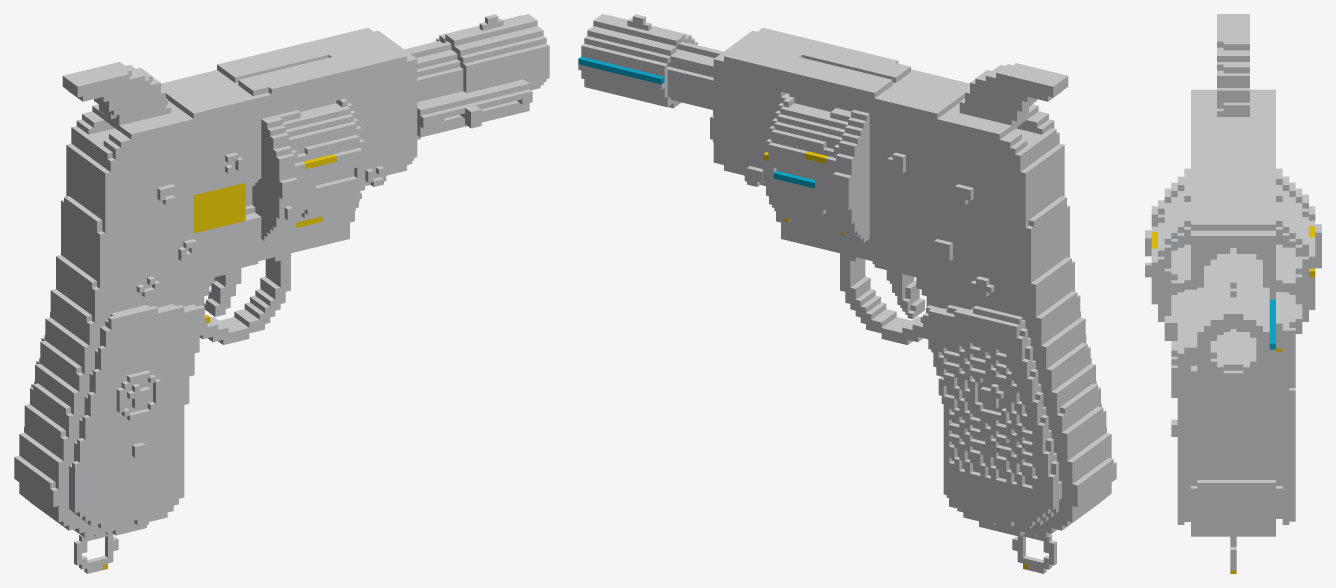
The model's file is diff_volume.glb.
The picture shows the model from 3 angles, left to right: view 1: azimuth 30°, elevation 25°; view 2: azimuth 150°, elevation 25°; view 3: azimuth 270°, elevation 25°; orthographic projection. The views are drawn at different scales.
Parts seen in each view (by area): view 1: =>[0:1:1:33], =>[0:1:1:299], =>[0:1:1:744], =>[0:1:1:298], =>[0:1:1:53], =>[0:1:1:36], =>[0:1:1:1436], =>[0:1:1:63], =>[0:1:1:2590], =>[0:1:1:1936], =>[0:1:1:73], =>[0:1:1:749] (+42 smaller); view 2: =>[0:1:1:140], =>[0:1:1:141], =>[0:1:1:744], =>[0:1:1:157], =>[0:1:1:1436], =>[0:1:1:455], =>[0:1:1:172], =>[0:1:1:1936], =>[0:1:1:152], =>[0:1:1:142], =>[0:1:1:749], =>[0:1:1:200] (+34 smaller); view 3: =>[0:1:1:344], =>[0:1:1:1242], =>[0:1:1:744], =>[0:1:1:1436], =>[0:1:1:351], =>[0:1:1:749], =>[0:1:1:747], =>[0:1:1:873], =>[0:1:1:2264], =>[0:1:1:1234], =>[0:1:1:85], =>[0:1:1:345] (+56 smaller).
Part boxes in pixels (bbox=[...]): =>[0:1:1:33]: bbox=[110, 155, 136, 296]; =>[0:1:1:299]: bbox=[142, 407, 173, 518]; =>[0:1:1:744]: bbox=[254, 43, 406, 88]; =>[0:1:1:298]: bbox=[101, 456, 137, 528]; =>[0:1:1:53]: bbox=[386, 56, 406, 175]; =>[0:1:1:36]: bbox=[240, 217, 349, 265]; =>[0:1:1:1436]: bbox=[161, 70, 252, 111]; =>[0:1:1:63]: bbox=[193, 106, 224, 178]; =>[0:1:1:2590]: bbox=[193, 183, 245, 233]; =>[0:1:1:1936]: bbox=[61, 201, 96, 280]; =>[0:1:1:73]: bbox=[261, 77, 344, 118]; =>[0:1:1:749]: bbox=[217, 41, 328, 77]; =>[0:1:1:140]: bbox=[874, 164, 916, 277]; =>[0:1:1:141]: bbox=[994, 166, 1025, 298]; =>[0:1:1:744]: bbox=[745, 27, 897, 73]; =>[0:1:1:157]: bbox=[724, 56, 744, 175]; =>[0:1:1:1436]: bbox=[875, 72, 969, 113]; =>[0:1:1:455]: bbox=[964, 472, 1011, 526]; =>[0:1:1:172]: bbox=[781, 70, 869, 113]; =>[0:1:1:1936]: bbox=[1031, 203, 1066, 282]; =>[0:1:1:152]: bbox=[937, 119, 952, 242]; =>[0:1:1:142]: bbox=[781, 217, 874, 261]; =>[0:1:1:749]: bbox=[781, 57, 892, 92]; =>[0:1:1:200]: bbox=[1028, 147, 1061, 219]; =>[0:1:1:344]: bbox=[1191, 488, 1275, 524]; =>[0:1:1:1242]: bbox=[1197, 438, 1275, 479]; =>[0:1:1:744]: bbox=[1191, 152, 1230, 224]; =>[0:1:1:1436]: bbox=[1197, 117, 1275, 150]; =>[0:1:1:351]: bbox=[1197, 402, 1269, 441]; =>[0:1:1:749]: bbox=[1236, 144, 1275, 193]; =>[0:1:1:747]: bbox=[1230, 194, 1275, 224]; =>[0:1:1:873]: bbox=[1197, 378, 1275, 402]; =>[0:1:1:2264]: bbox=[1217, 14, 1249, 41]; =>[0:1:1:1234]: bbox=[1191, 524, 1275, 533]; =>[0:1:1:85]: bbox=[1184, 289, 1197, 347]; =>[0:1:1:345]: bbox=[1177, 420, 1184, 518].
Bounding box in the file's own units: 155 × 147 × 43.52.
